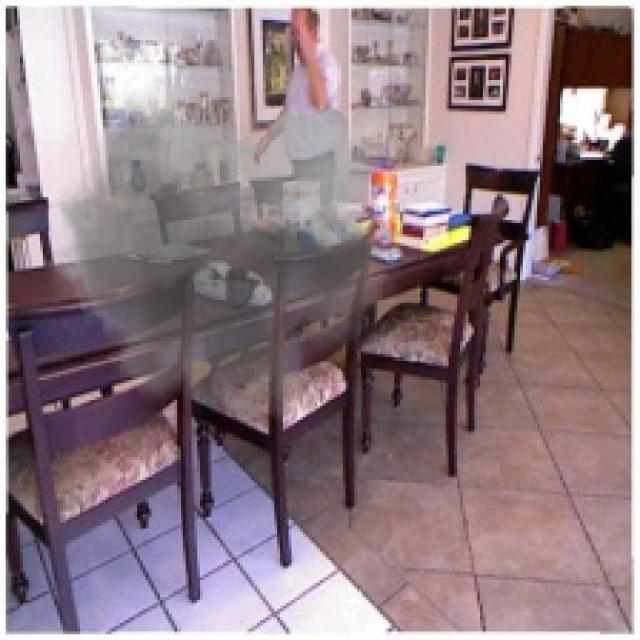Smoke: (31, 23, 406, 440)
